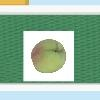ripe: (29, 38, 67, 75)
